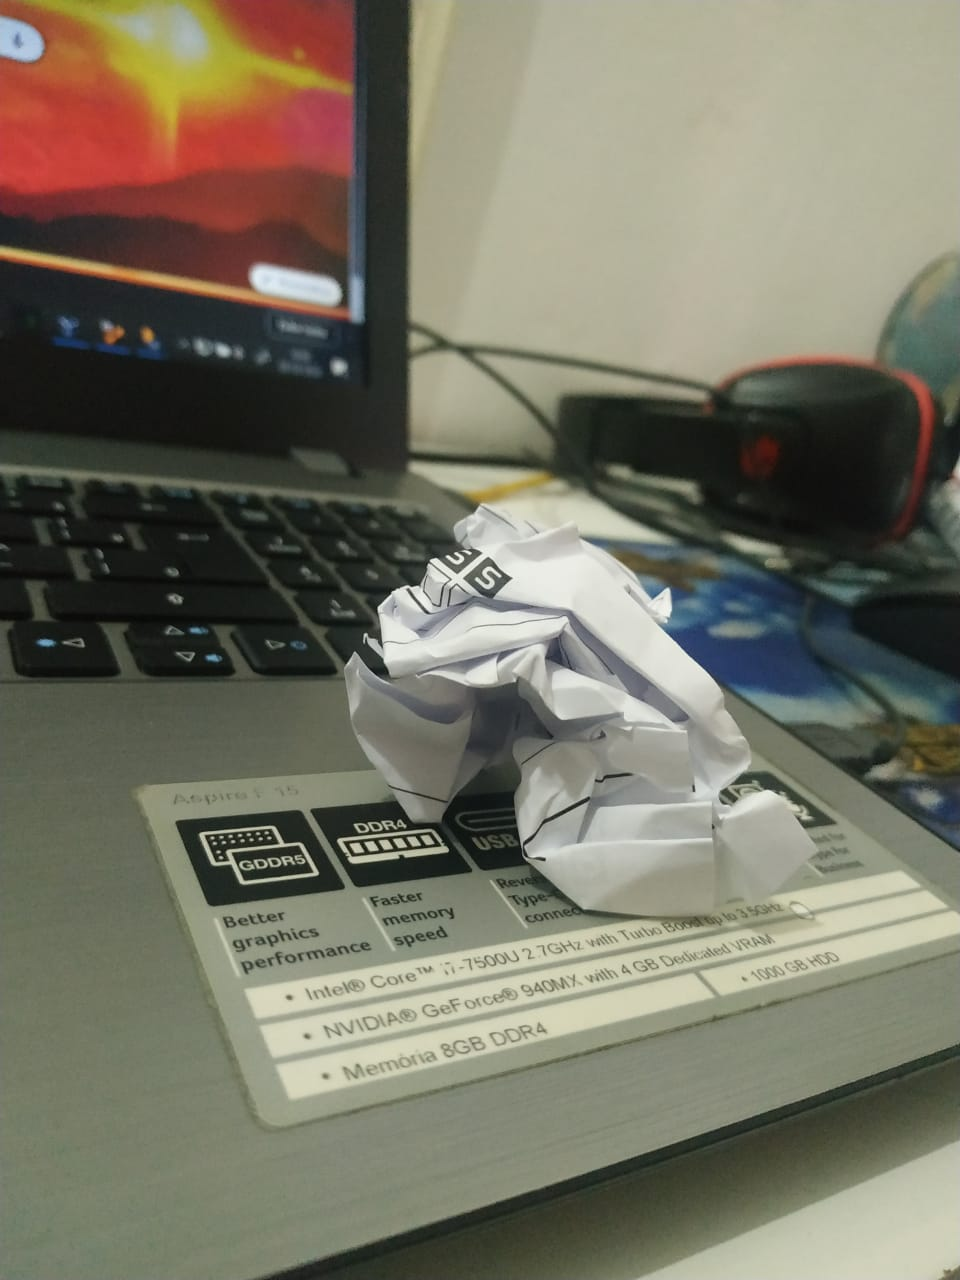paper-crumpled: (327, 482, 823, 912)
